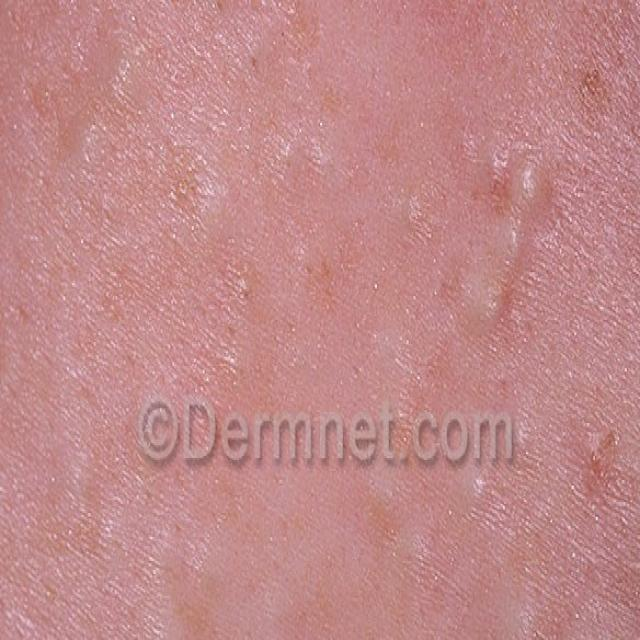Acne: (386, 106, 568, 356), (3, 32, 205, 198), (462, 463, 633, 640)
